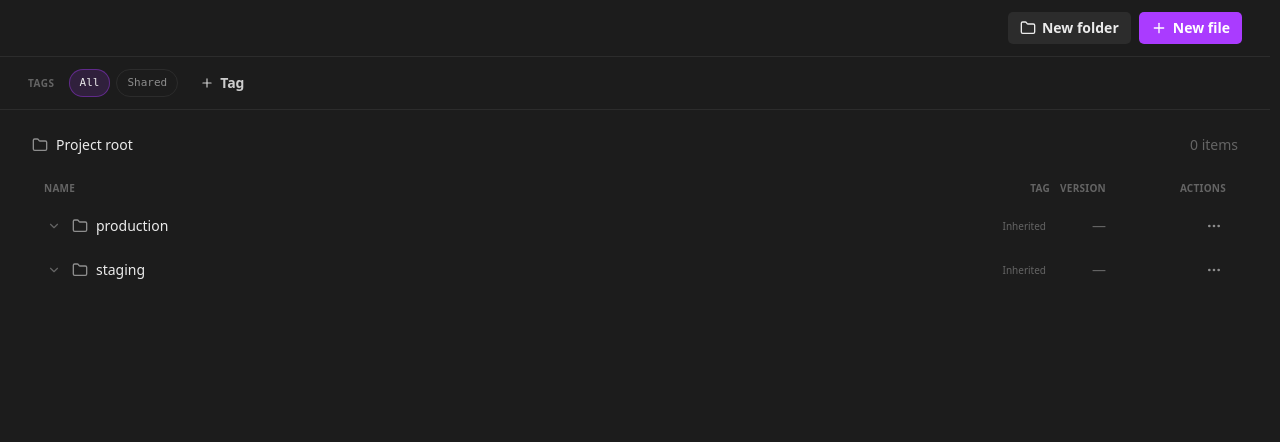
Scenario: ProjectFilesPanel › shows a centered, transient success toast after a drag move
The width and height of the screenshot is (1280, 442).
Press the mouse on the button titled "Drag to move this folder" at {"x": 132, "y": 225}, box [72,215,930,236]
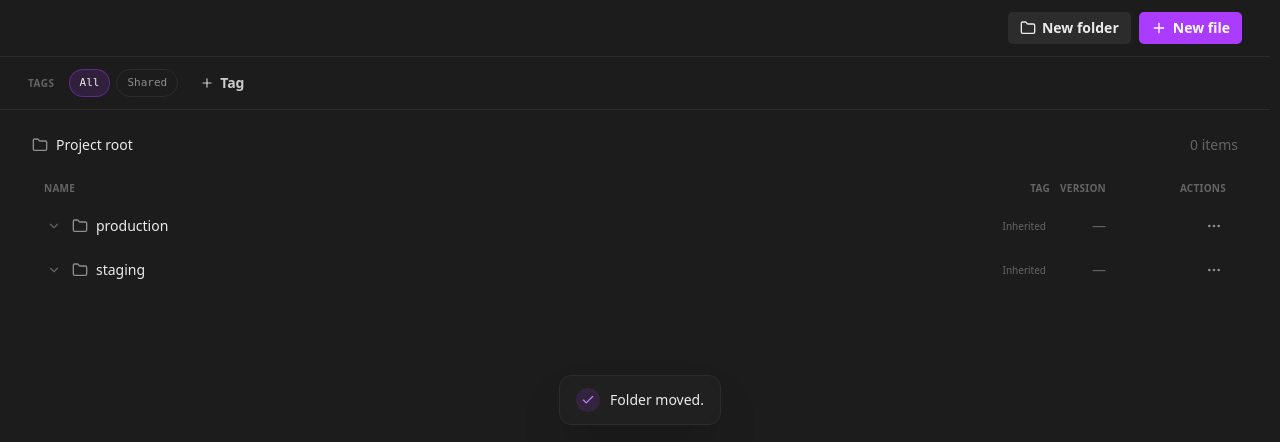
Check: the message "Folder moved." is shown, box [559,375,721,425]
